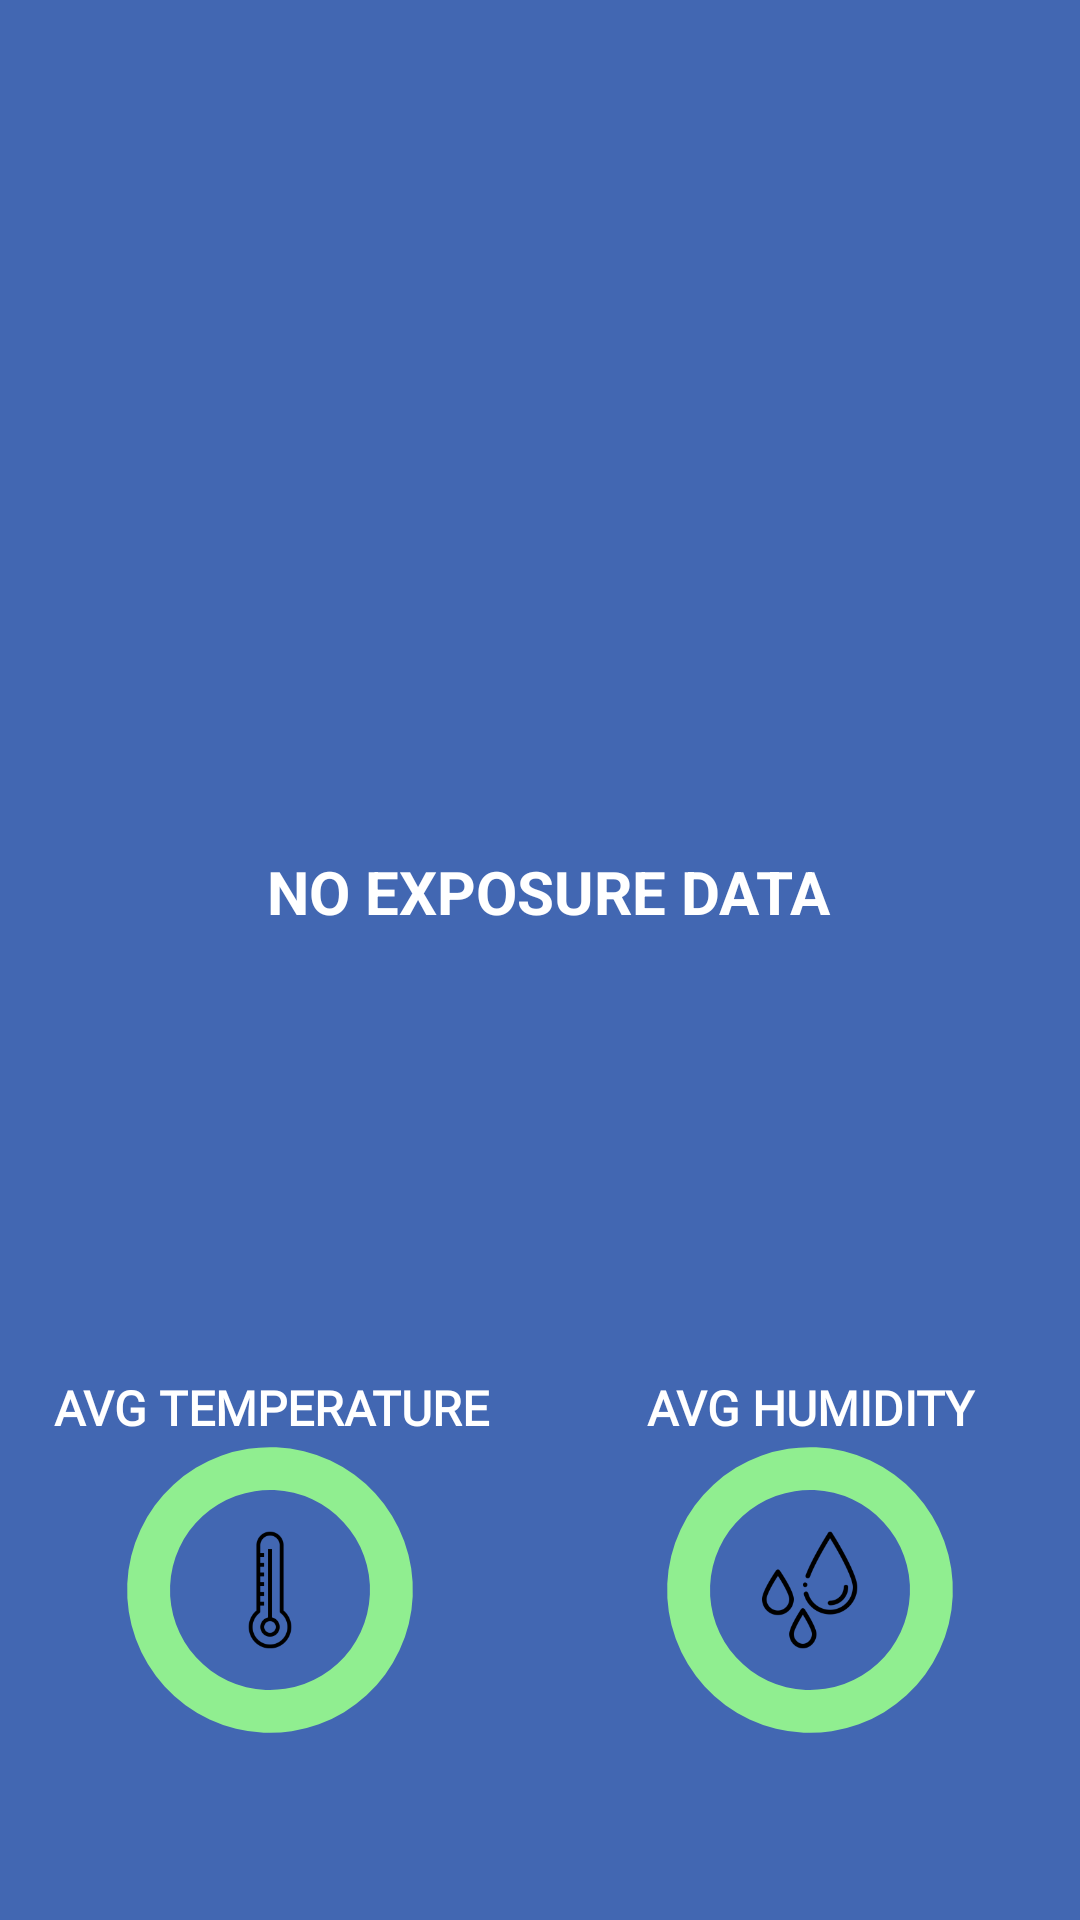

Icons on this 1080 × 1920 Android screen, each with its box as [x1=x1, y1=y1, x2=x2, y2=y2]:
drops: [x1=710, y1=1490, x2=910, y2=1690]
temperatura: [x1=170, y1=1490, x2=370, y2=1690]
